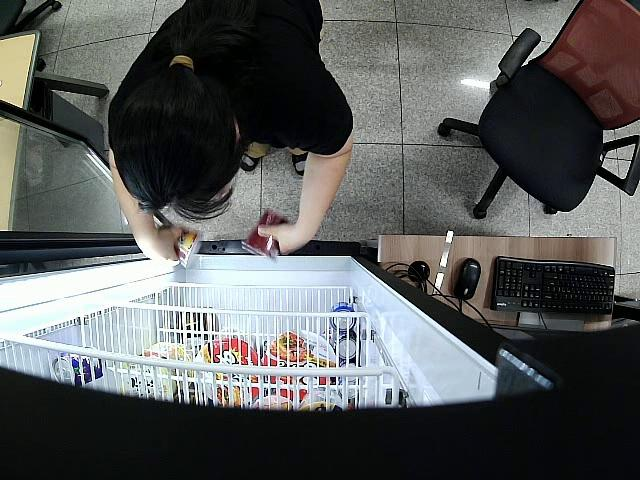00_hand: (256, 223, 318, 255), (150, 224, 184, 266)
06_nuguri_S: (242, 211, 289, 263), (159, 222, 200, 269)
